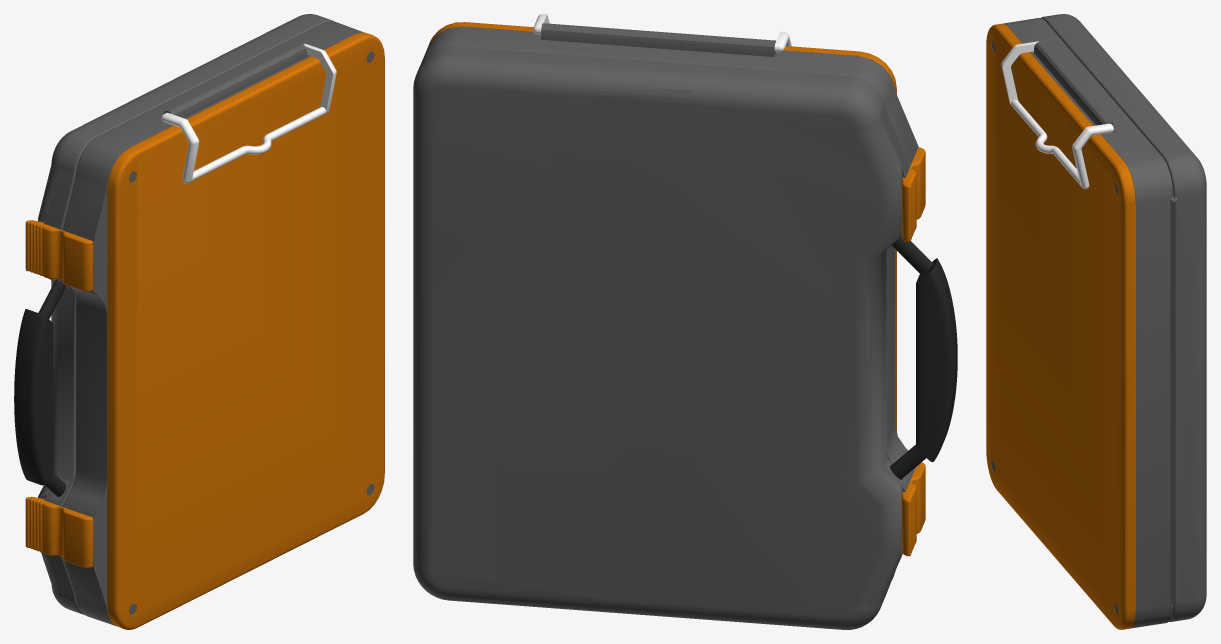
3 views of the same model, side by side, from view 1: azimuth 30°, elevation 25°; view 2: azimuth 150°, elevation 25°; view 3: azimuth 270°, elevation 25° (orthographic). The views are drawn at different scales.
Parts seen in each view (by area): view 1: Board, Lid, Case, Snaps, Handle, Board clip; view 2: Case, Lid, Handle, Snaps, Board; view 3: Board, Lid, Case, Board clip.
Part boxes in pixels (<box>): Board: <box>107,32,384,629</box>; Lid: <box>62,21,374,626</box>; Case: <box>38,14,334,614</box>; Snaps: <box>25,220,93,567</box>; Handle: <box>14,279,66,496</box>; Board clip: <box>161,43,336,183</box>; Case: <box>413,46,909,629</box>; Lid: <box>421,23,918,596</box>; Handle: <box>890,236,957,479</box>; Snaps: <box>901,147,925,556</box>; Board: <box>429,22,896,579</box>; Board: <box>986,23,1135,629</box>; Lid: <box>991,18,1175,628</box>; Case: <box>1041,14,1206,621</box>; Board clip: <box>1001,41,1114,189</box>.
Size of the model in its own units: 7.44 by 8.36 by 3.52.
